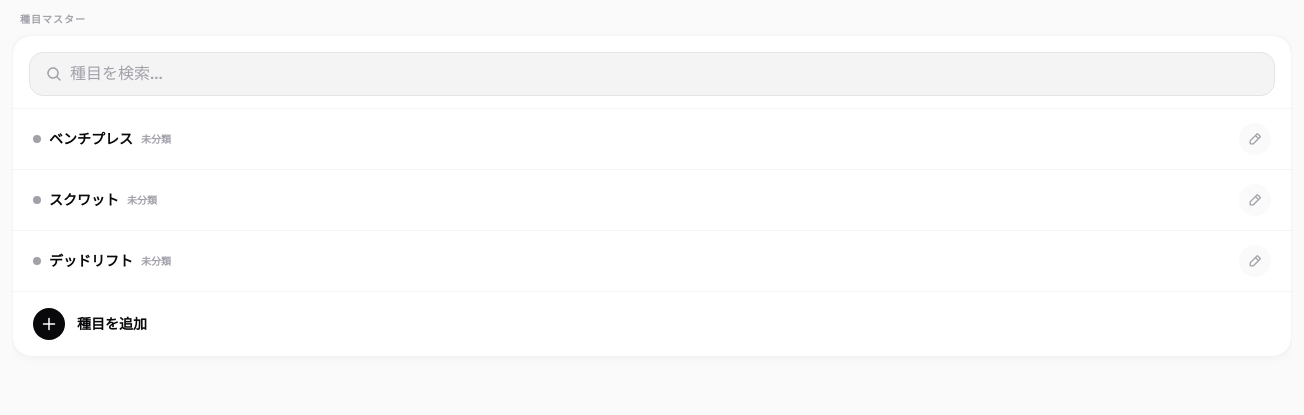
Test: ExerciseMasterSection › 重複する種目名を追加しようとするとインラインエラーを表示する
Click the button "種目を追加".
click(49, 324)  # box [13,292,1291,356]
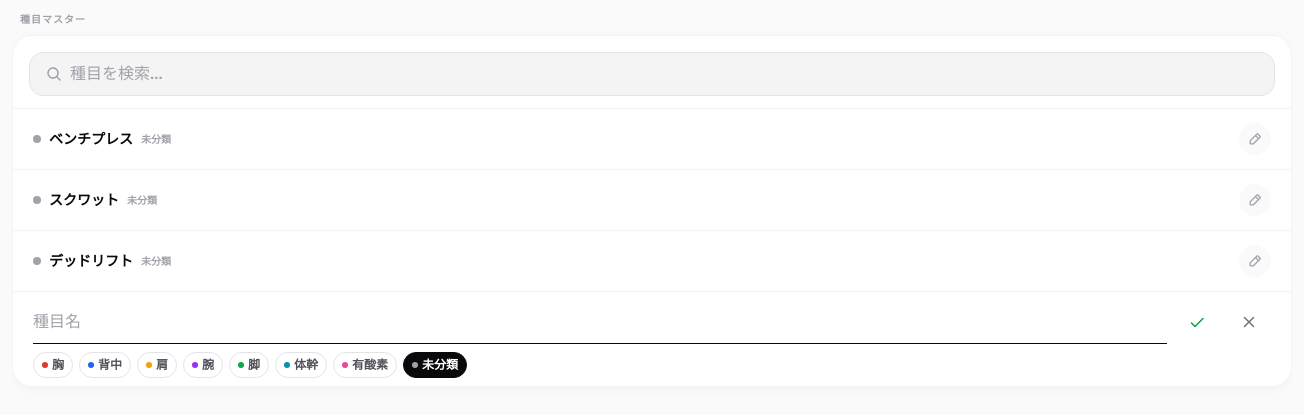
Type "ベンチプレス" into the field named "新しい種目名".
click(600, 322); type("ベンチプレス")  # box [33,300,1167,344]
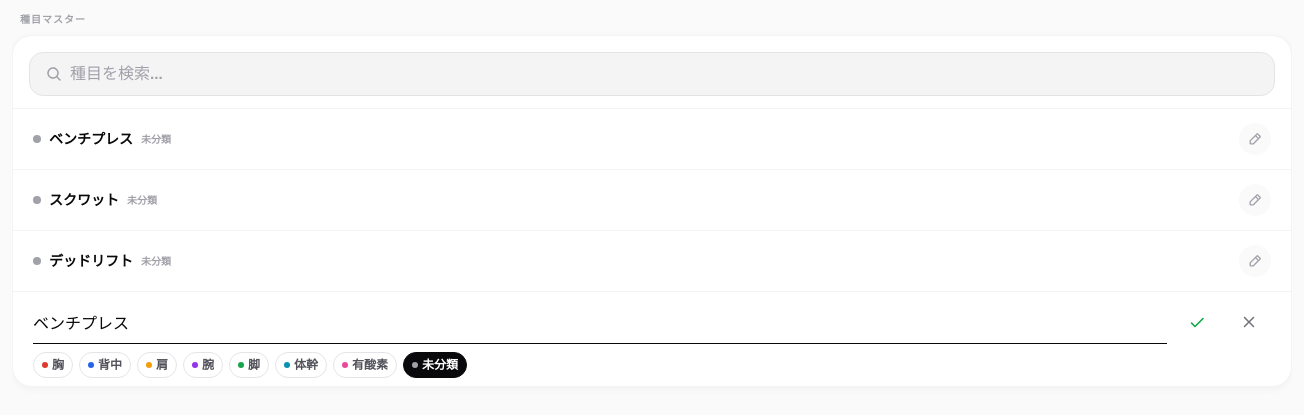
Click the button named "追加を確定".
click(1197, 322)  # box [1175,300,1219,344]
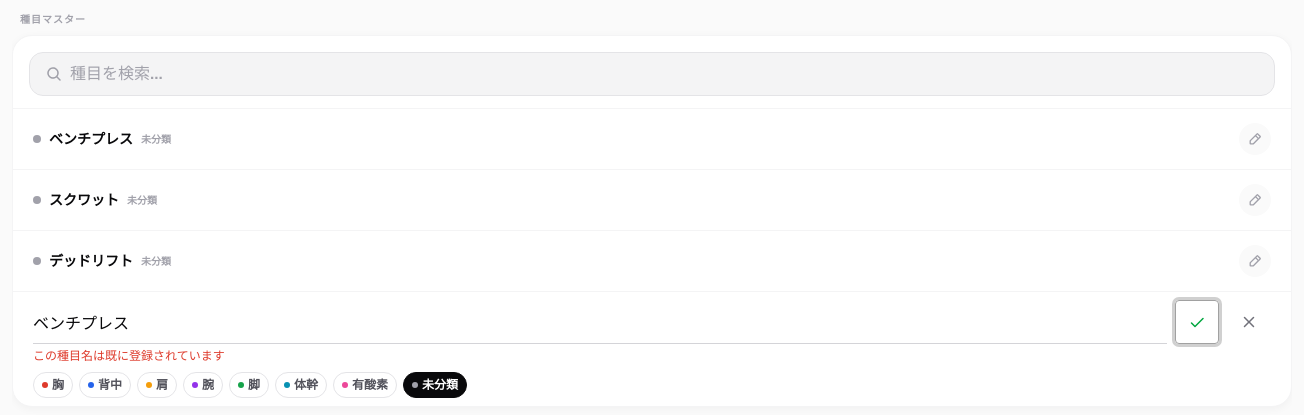
Expected: the message reads "この種目名は既に登録されています", [33,348,225,363]
